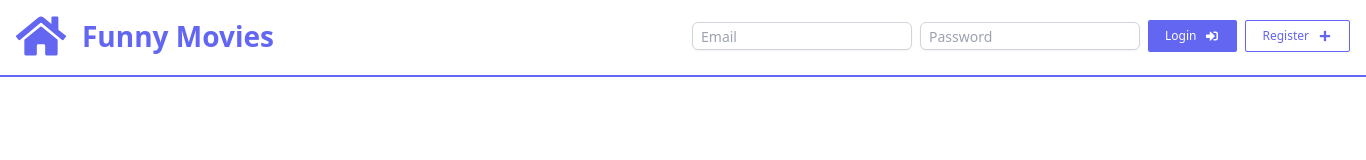
Test: Login › should show profile section and save token to cookie when login succeed
Type "user@gmail.com" into the field with placeholder "Email".
click(802, 36); type("user@gmail.com")  # box x1=692 y1=22 x2=912 y2=50
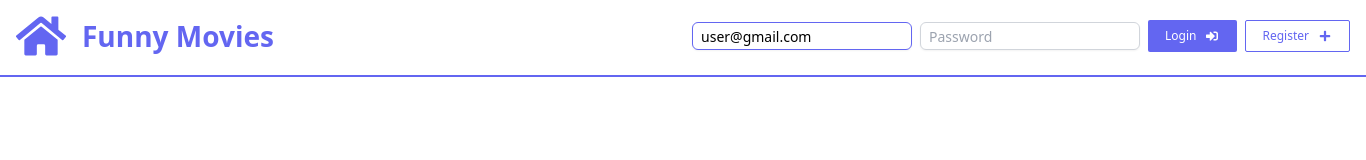
Type "123123123" into the password field with placeholder "Password".
click(1030, 36); type("123123123")  # box x1=920 y1=22 x2=1140 y2=50
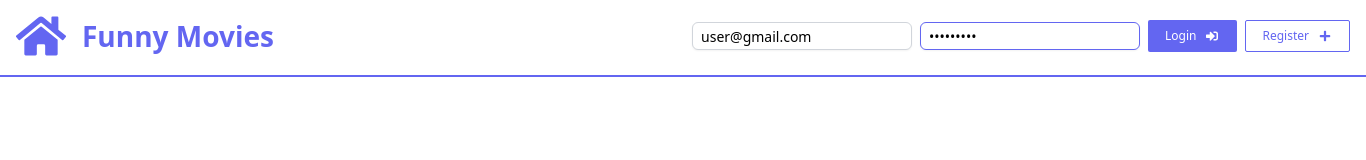
Click the button "Login".
click(1193, 36)  # box x1=1148 y1=20 x2=1238 y2=52
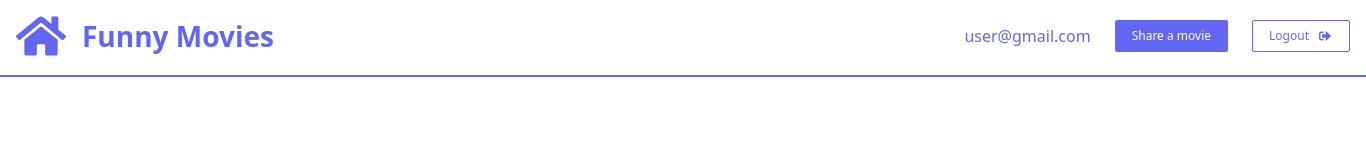
expect the element with test id "profile-section" is shown: met, box x1=964 y1=20 x2=1350 y2=52
